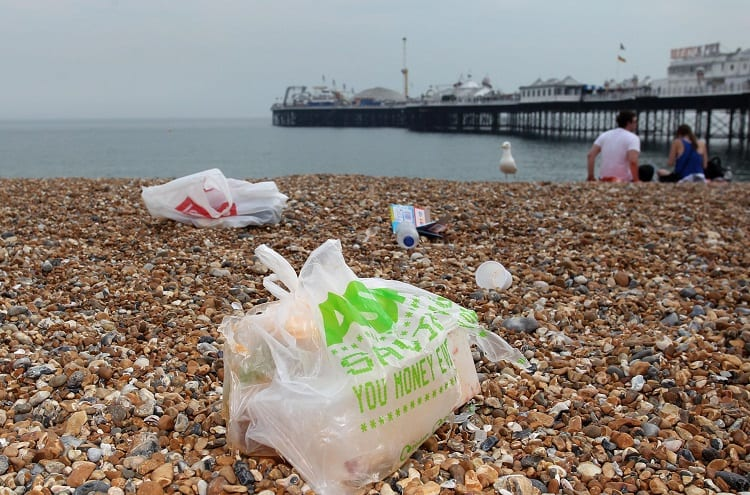plastic_bagwdw: (190, 231, 560, 495), (124, 156, 349, 281)
